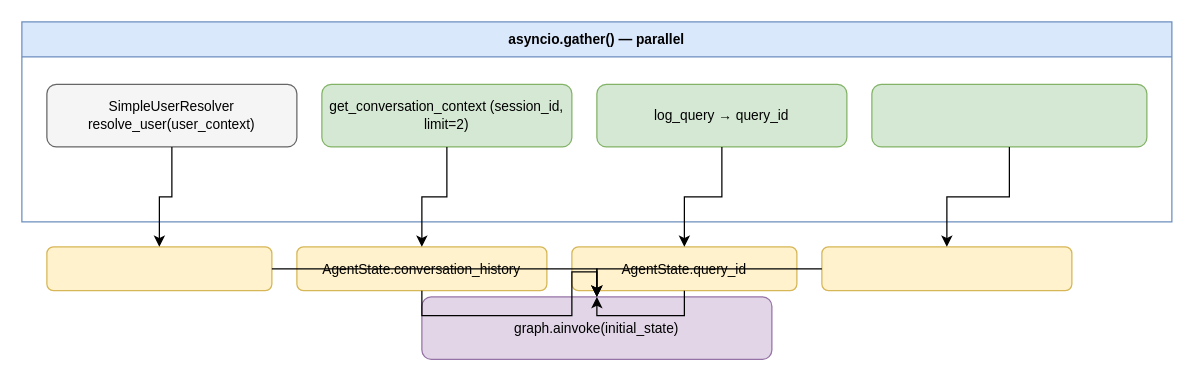
Some shapes in this 1194 by 381 pixel diagram are drawn without their labels. Each missing label, with the centre of its shape:
"_load_catalog(source_key) MCP or metadata DB" goes at point 1009,115.
"AgentState.metadata_bundle" goes at point 946,268.
"AgentState.user_id" goes at point 159,268.
